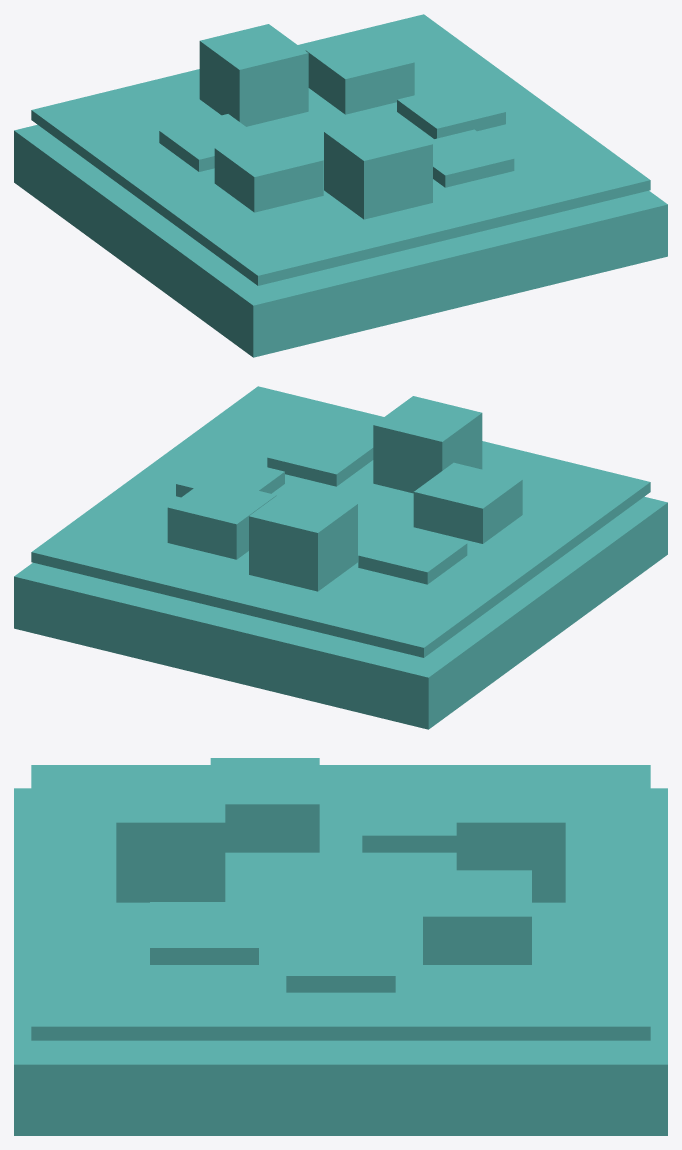
File: reef_sea.glb
3 views of the same model, one above another, from view 1: azimuth 30°, elevation 25°; view 2: azimuth 150°, elevation 25°; view 3: azimuth 270°, elevation 25° (orthographic). The views are drawn at different scales.
Visible parts, largest first — view 1: reef_sea water, reef_sea base, reef_sea relief.005, reef_sea relief.002, reef_sea relief.004, reef_sea relief.001, reef_sea relief, reef_sea relief.006, reef_sea relief.003; view 2: reef_sea water, reef_sea base, reef_sea relief.002, reef_sea relief.005, reef_sea relief.004, reef_sea relief.001, reef_sea relief.003, reef_sea relief.006, reef_sea relief; view 3: reef_sea water, reef_sea base, reef_sea relief.005, reef_sea relief.002, reef_sea relief.001, reef_sea relief.004, reef_sea relief, reef_sea relief.006, reef_sea relief.003.
Boxes of the visible parts, <box> form: reef_sea water: <box>31,14,650,285</box>; reef_sea base: <box>14,124,667,357</box>; reef_sea relief.005: <box>324,115,432,219</box>; reef_sea relief.002: <box>199,24,308,126</box>; reef_sea relief.004: <box>214,131,323,212</box>; reef_sea relief.001: <box>305,33,414,114</box>; reef_sea relief: <box>397,83,505,138</box>; reef_sea relief.006: <box>428,129,514,187</box>; reef_sea relief.003: <box>159,114,259,171</box>; reef_sea water: <box>31,386,650,657</box>; reef_sea base: <box>14,496,667,729</box>; reef_sea relief.002: <box>249,487,357,591</box>; reef_sea relief.005: <box>373,396,482,493</box>; reef_sea relief.004: <box>413,462,522,543</box>; reef_sea relief.001: <box>167,478,276,559</box>; reef_sea relief.003: <box>358,526,467,584</box>; reef_sea relief.006: <box>267,428,373,486</box>; reef_sea relief: <box>176,455,284,497</box>; reef_sea water: <box>31,765,650,1040</box>; reef_sea base: <box>14,788,667,1135</box>; reef_sea relief.005: <box>116,776,225,902</box>; reef_sea relief.002: <box>456,776,565,902</box>; reef_sea relief.001: <box>423,870,531,964</box>; reef_sea relief.004: <box>210,758,319,852</box>; reef_sea relief: <box>286,929,395,992</box>; reef_sea relief.006: <box>150,902,258,964</box>; reef_sea relief.003: <box>362,789,456,852</box>.
Bounding box in the file's own units: 3 × 0.92 × 3.
